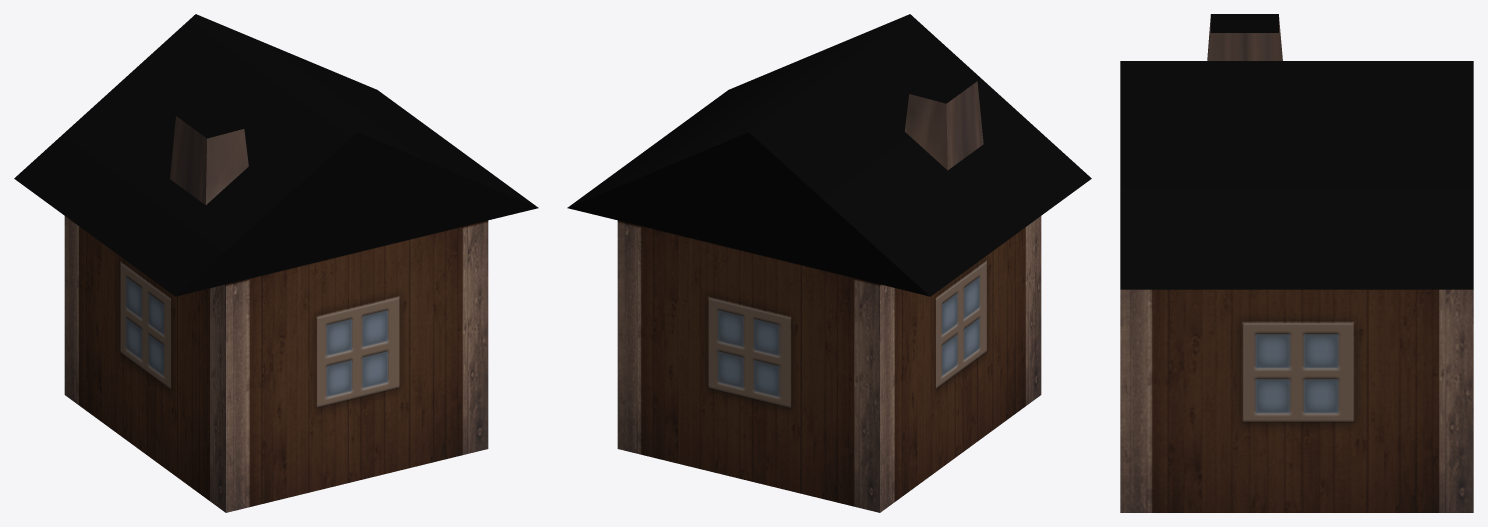
Rendered from huussi.FBX.
3 renders of one model, left to right at view 1: azimuth 30°, elevation 25°; view 2: azimuth 150°, elevation 25°; view 3: azimuth 270°, elevation 25°, orthographic. The views are drawn at different scales.
Visible parts, largest first — view 1: huussi; view 2: huussi; view 3: huussi.
Boxes of the visible parts, x1,y1,x2,y2 form: huussi: [14, 14, 538, 512]; huussi: [567, 14, 1091, 512]; huussi: [1120, 14, 1473, 512].
Size of the model in its own units: 160 by 147 by 123.
